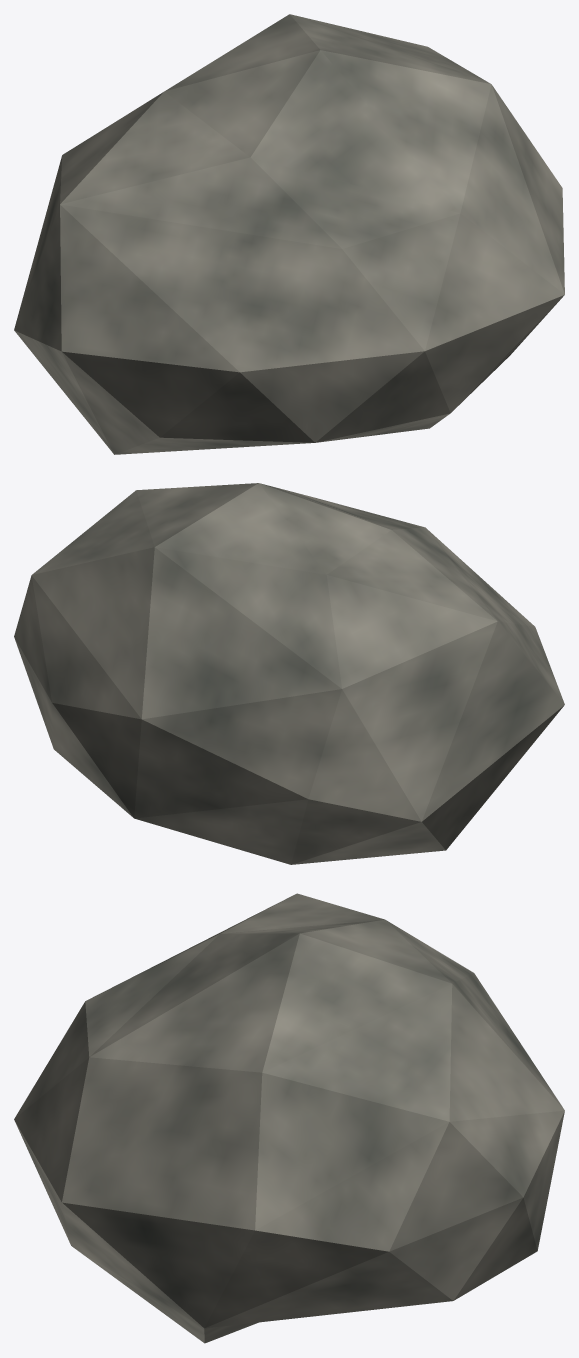
Rendered from rock.obj.
The picture shows the model from 3 angles, top to bottom: view 1: azimuth 30°, elevation 25°; view 2: azimuth 150°, elevation 25°; view 3: azimuth 270°, elevation 25°; orthographic projection. The views are drawn at different scales.
Parts seen in each view (by area): view 1: rock; view 2: rock; view 3: rock.
Part boxes in pixels (bbox=[...]): rock: bbox=[14, 14, 564, 454]; rock: bbox=[14, 483, 564, 864]; rock: bbox=[14, 893, 564, 1343].
Bounding box in the file's own units: 1.47 × 0.997 × 1.27.
Materials: 1 (1 with a texture image).
